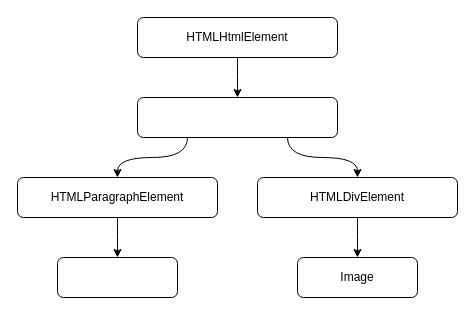
The diagram is 475 pixels wide and 315 high, and some of its shapes have lost their labels. Each missing label, with the centre of its shape:
HTMLBodyElement: pixel 237 117
Text: pixel 117 277
